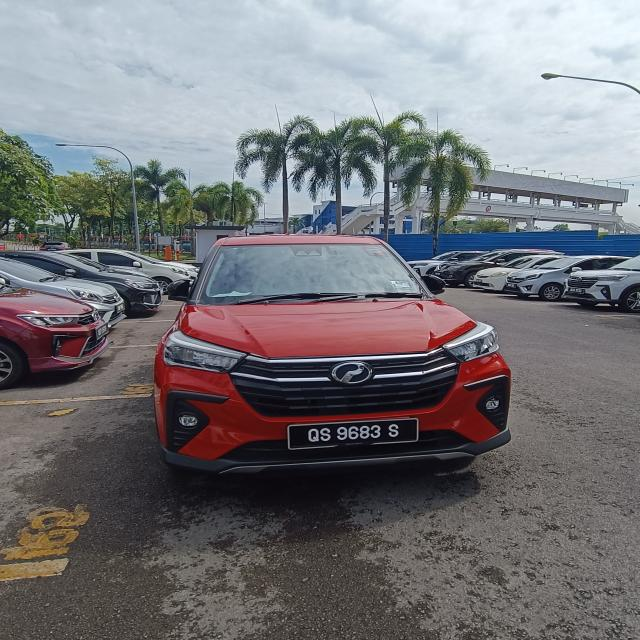PeroduaAtiva: (151, 231, 513, 477)
